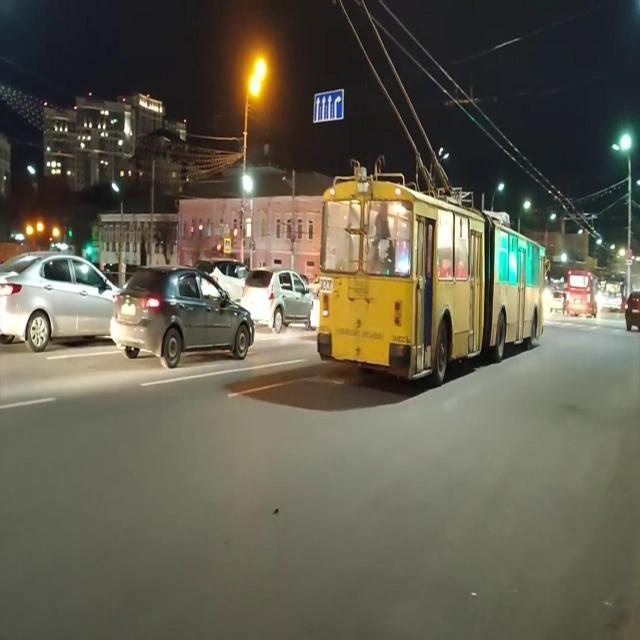Bus: (314, 153, 551, 398)
